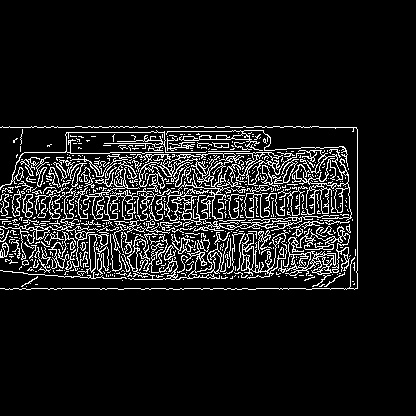buddha-horse-riding: (178, 232, 219, 272)
buddha-sitting: (215, 166, 231, 186), (324, 161, 340, 181), (77, 166, 93, 186), (42, 166, 58, 186), (146, 166, 161, 186), (288, 164, 304, 182), (255, 165, 270, 184), (111, 168, 125, 187), (180, 168, 194, 186), (12, 167, 23, 184)
buddha-sleeping: (288, 233, 340, 274)
